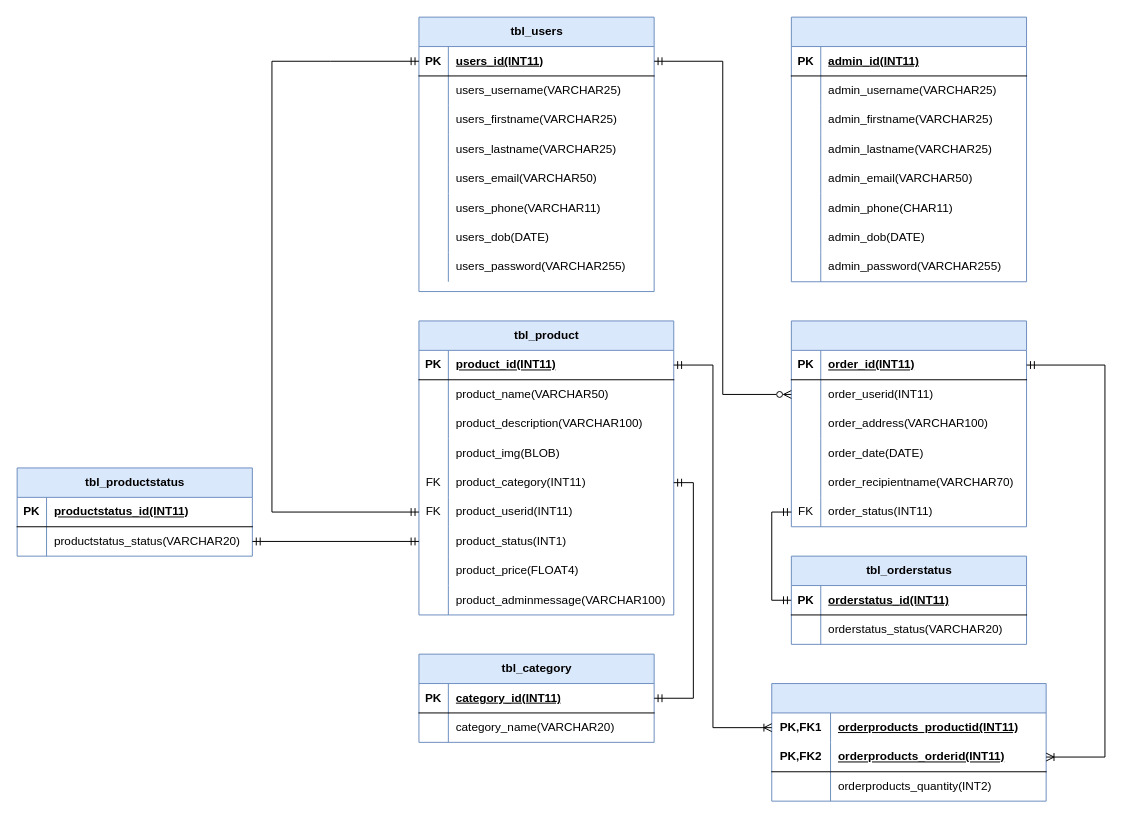
Some shapes in this 1131 by 818 pixel diagram are drawn without their labels. Here are the shapes that lost their labels. From the top down, the box of each, then its label:
(790, 16, 1027, 282): tbl_admin
(790, 320, 1027, 527): tbl_order
(771, 683, 1046, 801): tbl_orderproducts
